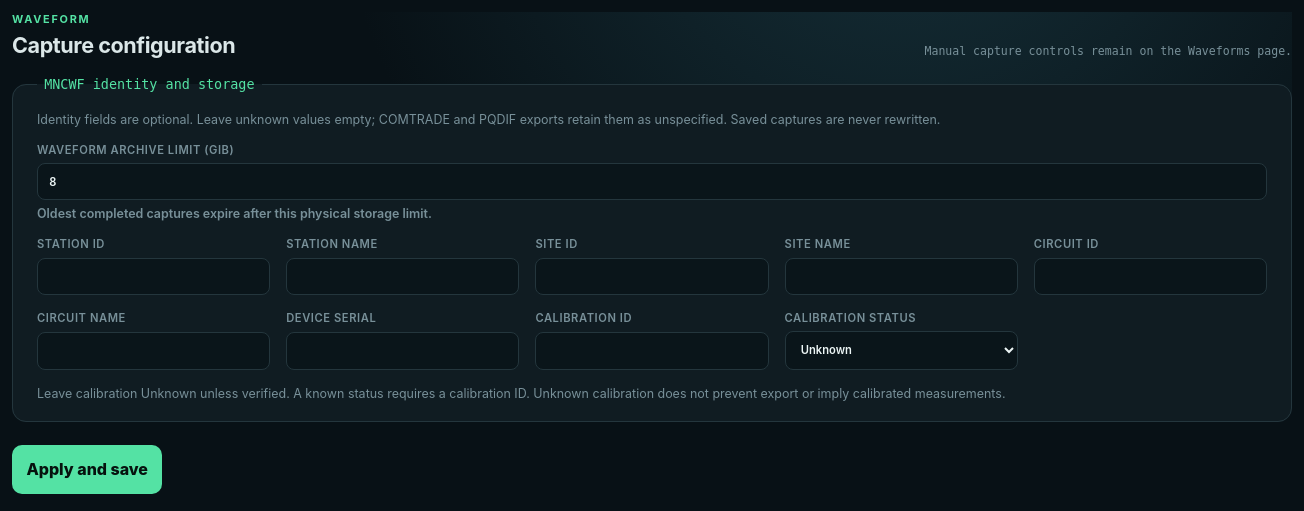
Test: Waveform configuration › saves optional identity and archive limit while preserving latest capture defaults and PQ settings
The width and height of the screenshot is (1304, 511).
Type "STN-04" into the field labelled "Station ID" at (154, 276), box [37,258,270,294]
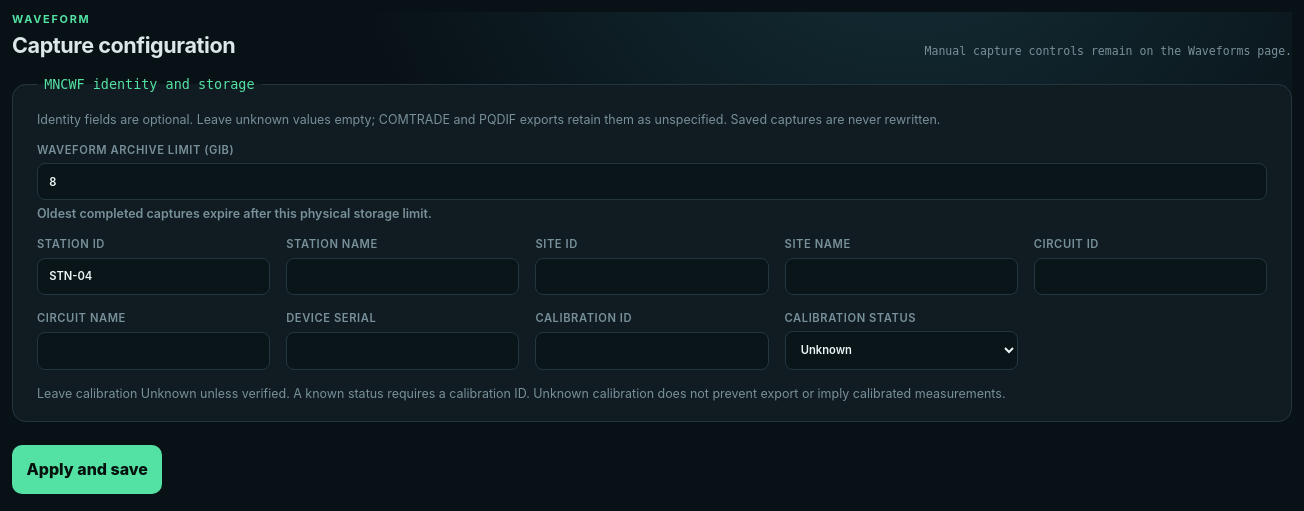
Replace the text in the number field labelled "Waveform archive limit" with "12" at (652, 182), box [37,163,1267,200]
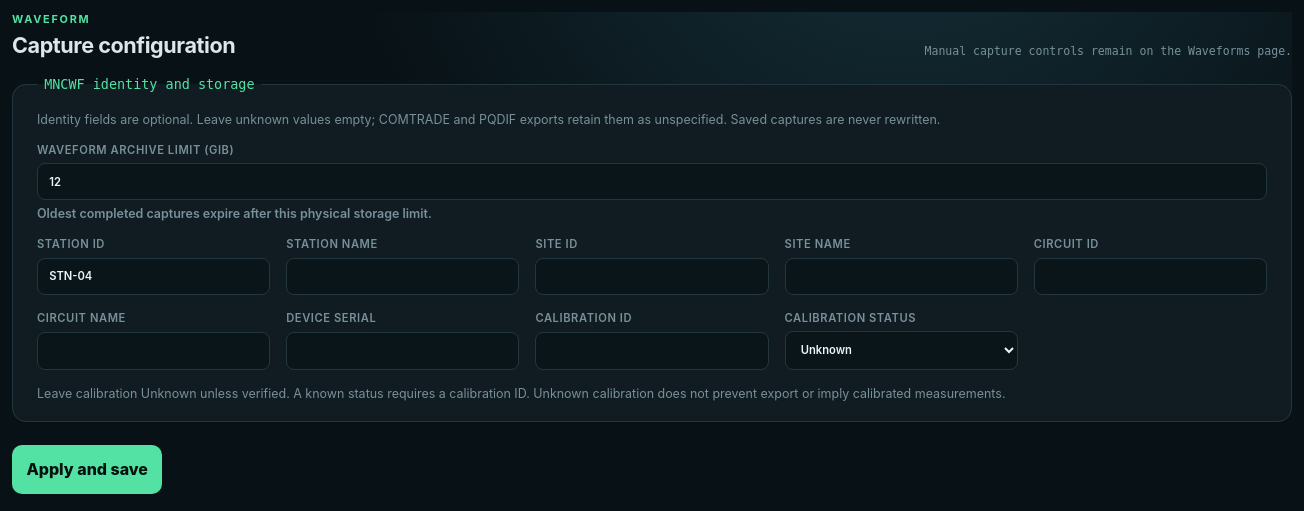
Click the button "Apply and save" at (87, 469), box [12,445,162,494]
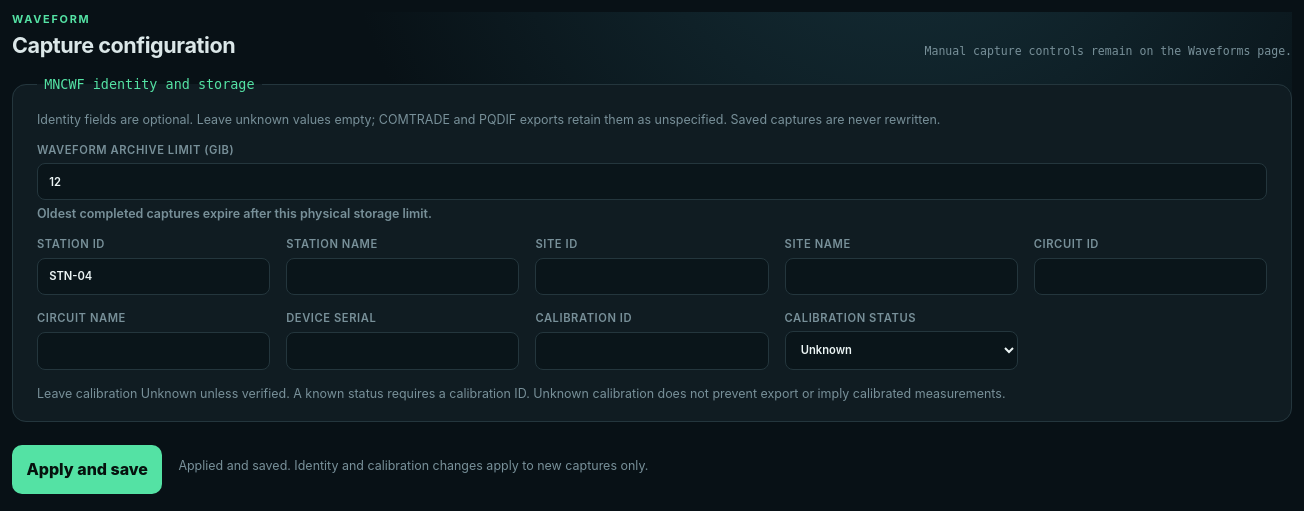
Check: the text "Applied and saved" is shown, box [178,458,648,473]
